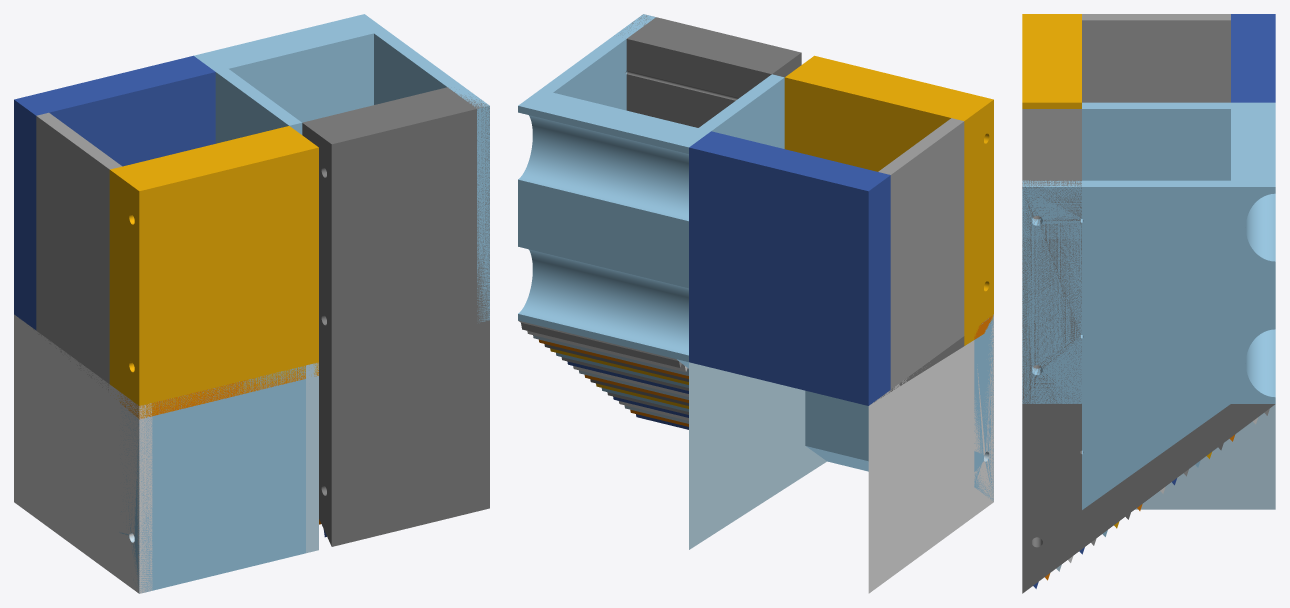
The picture shows the model from 3 angles, left to right: view 1: azimuth 30°, elevation 25°; view 2: azimuth 150°, elevation 25°; view 3: azimuth 270°, elevation 25°; orthographic projection.
Parts seen in each view (by area): view 1: 697621a925e7c79780eaf0d8 (×9); view 2: 697621a925e7c79780eaf0d8 (×9); view 3: 697621a925e7c79780eaf0d8 (×6).
Boxes of the visible parts, box(x1,y1,x2,y2) form: 697621a925e7c79780eaf0d8 (×9): box(14, 14, 489, 593); 697621a925e7c79780eaf0d8 (×9): box(518, 14, 993, 593); 697621a925e7c79780eaf0d8 (×6): box(1022, 14, 1275, 593).
Bounding box in the file's own units: 0.82 × 0.508 × 0.9.
